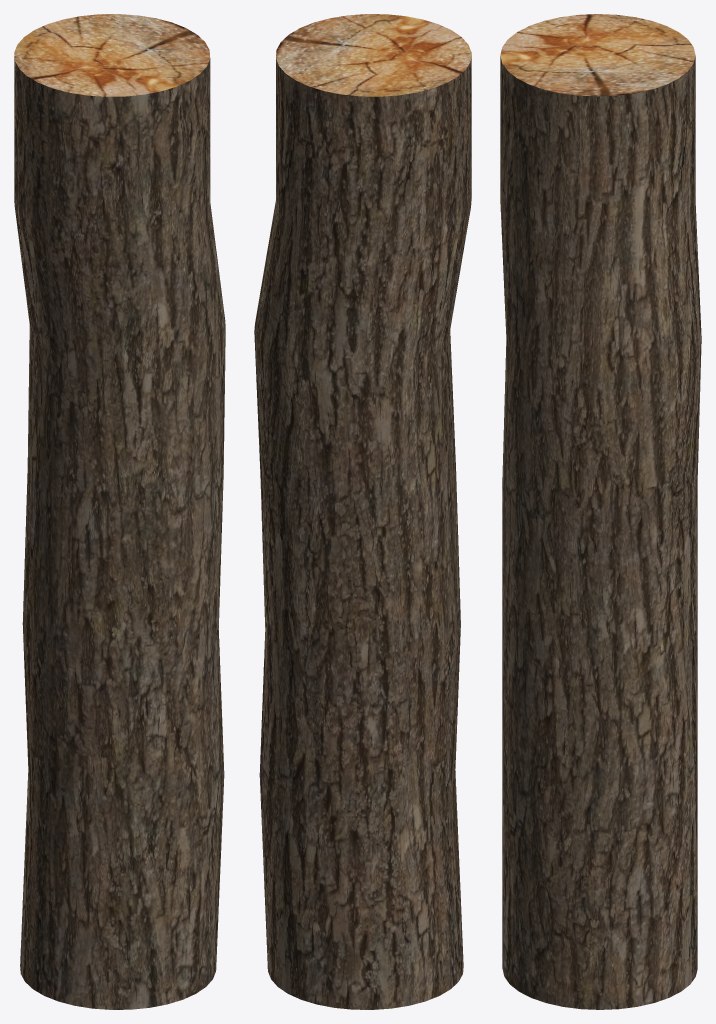
File: log.glb
The picture shows the model from 3 angles, left to right: view 1: azimuth 30°, elevation 25°; view 2: azimuth 150°, elevation 25°; view 3: azimuth 270°, elevation 25°; orthographic projection.
Visible parts, largest first — view 1: Cylinder.004; view 2: Cylinder.004; view 3: Cylinder.004.
Boxes of the visible parts, bbox=[...] form: Cylinder.004: bbox=[14, 14, 225, 1009]; Cylinder.004: bbox=[254, 14, 471, 1009]; Cylinder.004: bbox=[500, 14, 701, 1009].
Size of the model in its own units: 2.22 by 10.29 by 2.06.
1 material, 1 textured.
